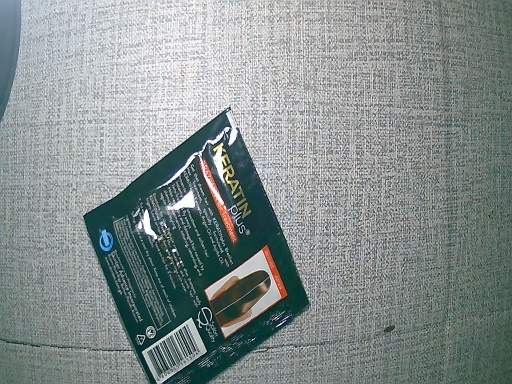plastic: (82, 108, 310, 384)
